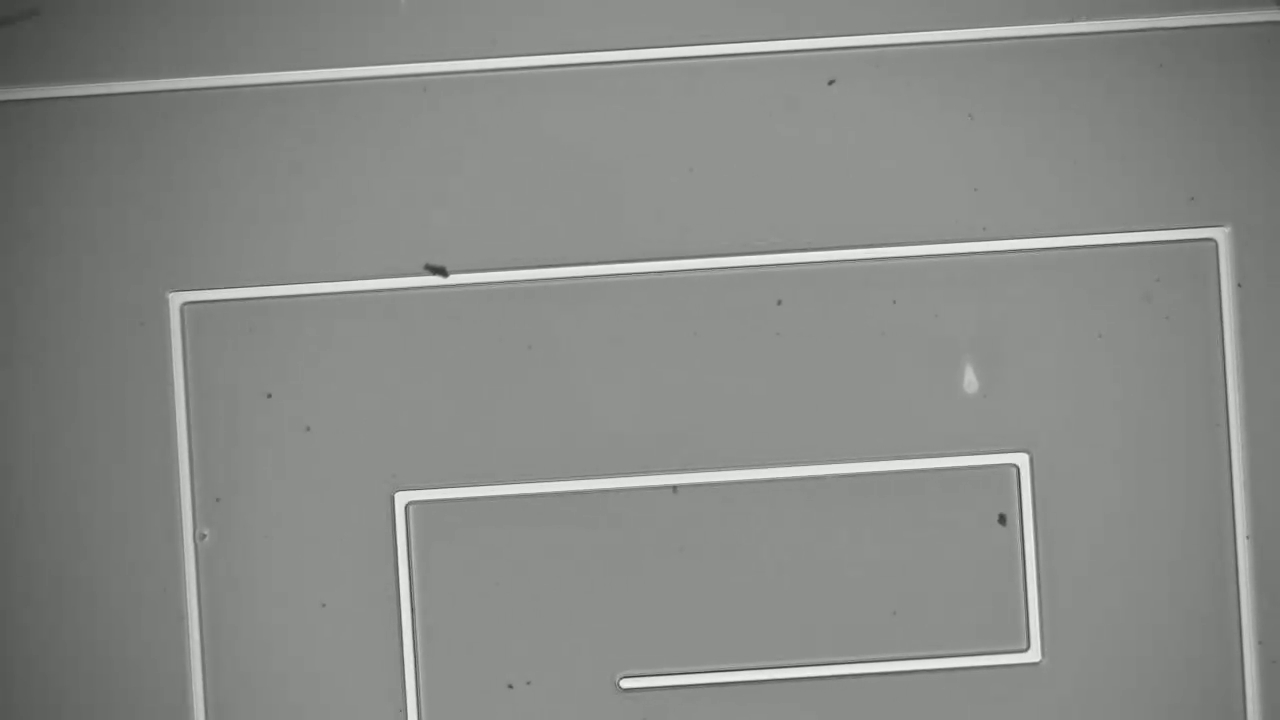stains_enbedded: (418, 262, 459, 292)
